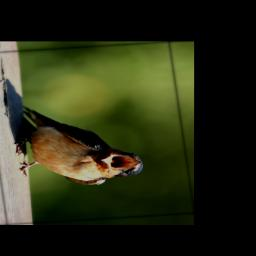Swallow: (8, 98, 146, 191)
